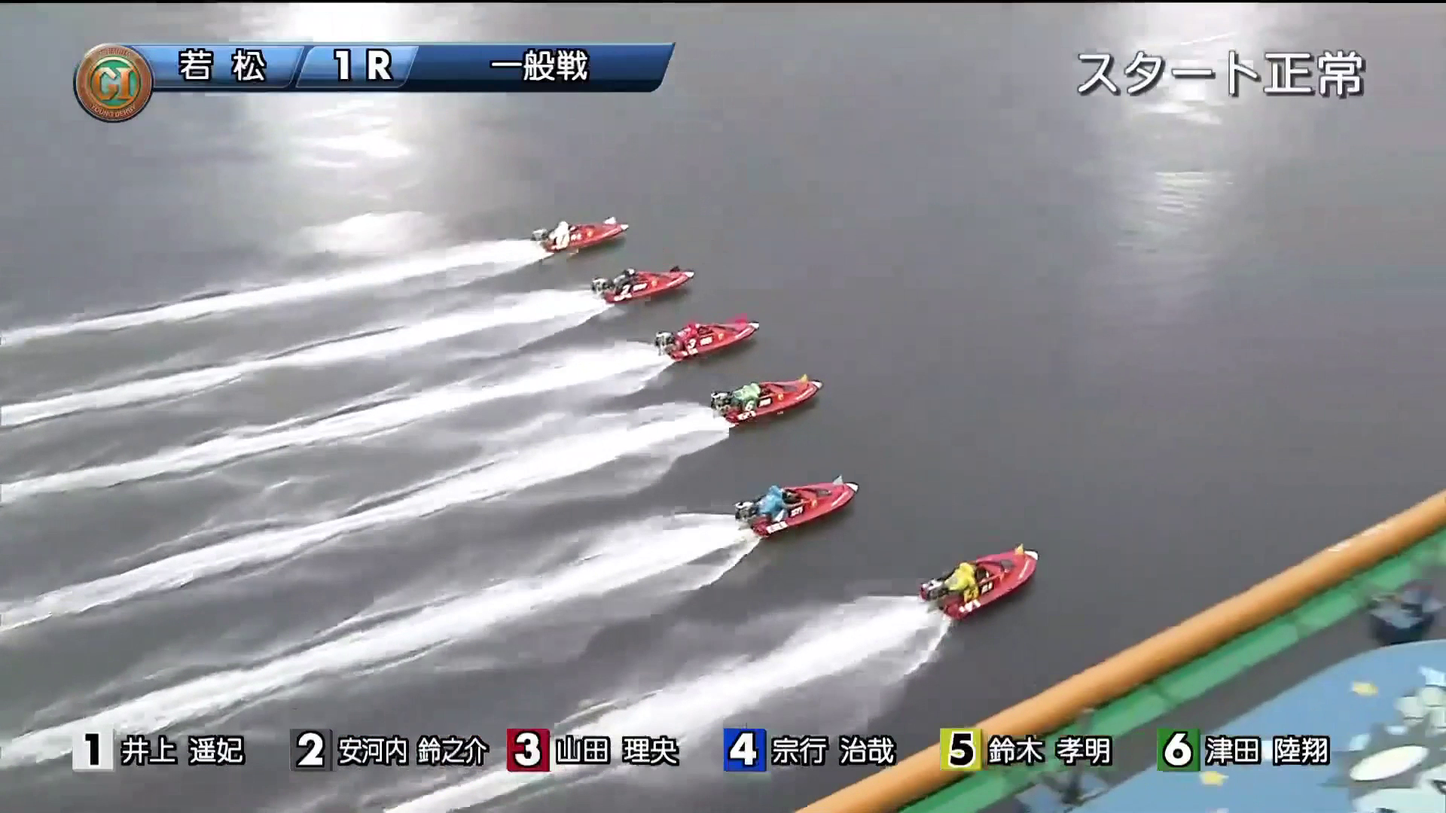１号艇: (537, 216, 613, 256)
２号艇: (585, 262, 682, 300)
３号艇: (645, 314, 755, 356)
４号艇: (705, 380, 810, 423)
５号艇: (728, 480, 849, 535)
６号艇: (897, 556, 1029, 613)
